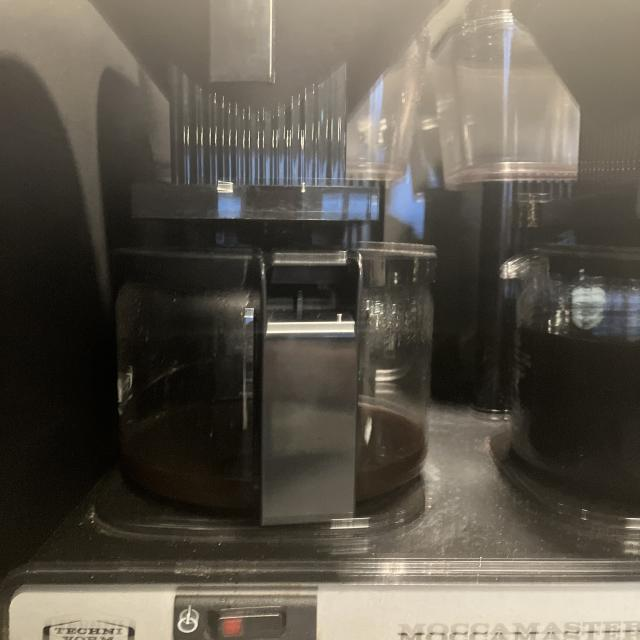coffee: (86, 232, 468, 521), (495, 232, 640, 516)
